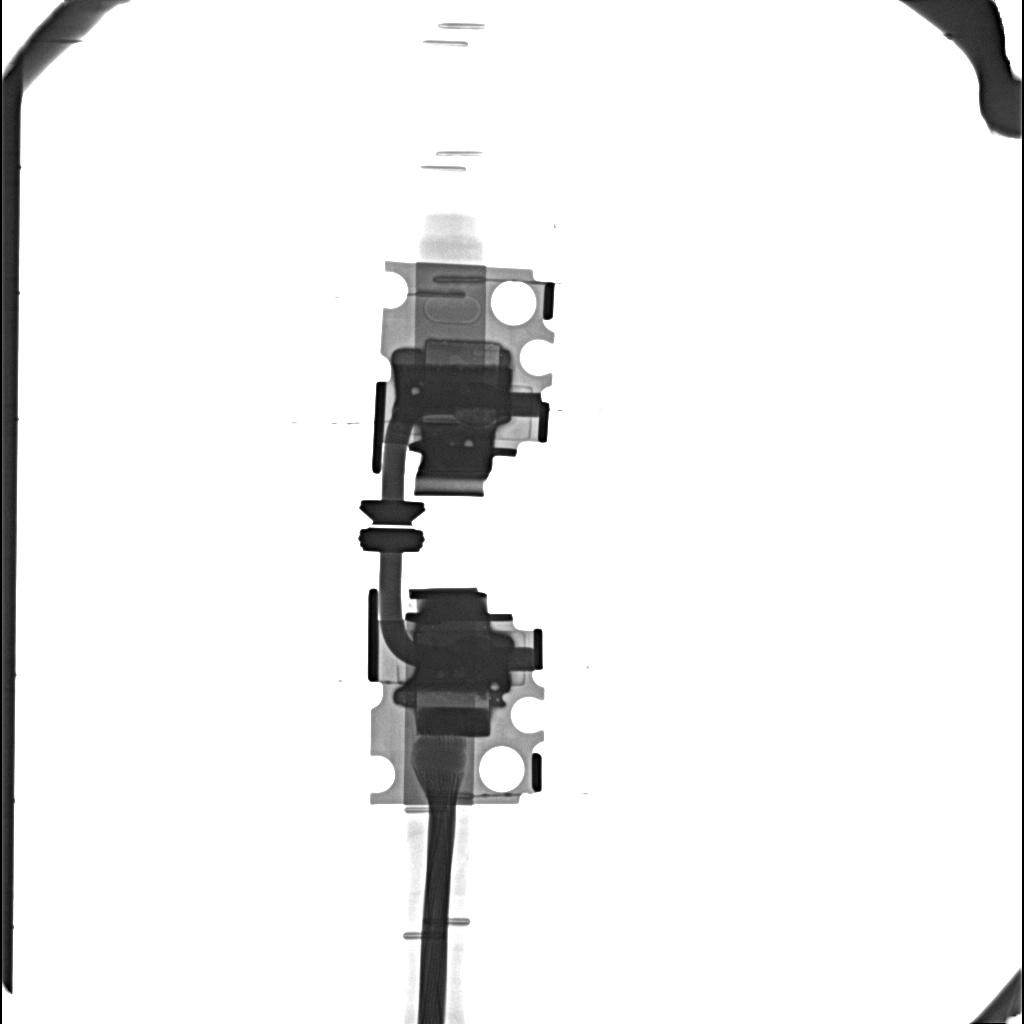PX: (414, 693, 493, 738), (423, 339, 502, 364)
QP: (464, 439, 473, 448)
SX: (395, 366, 509, 410), (405, 646, 511, 693)
